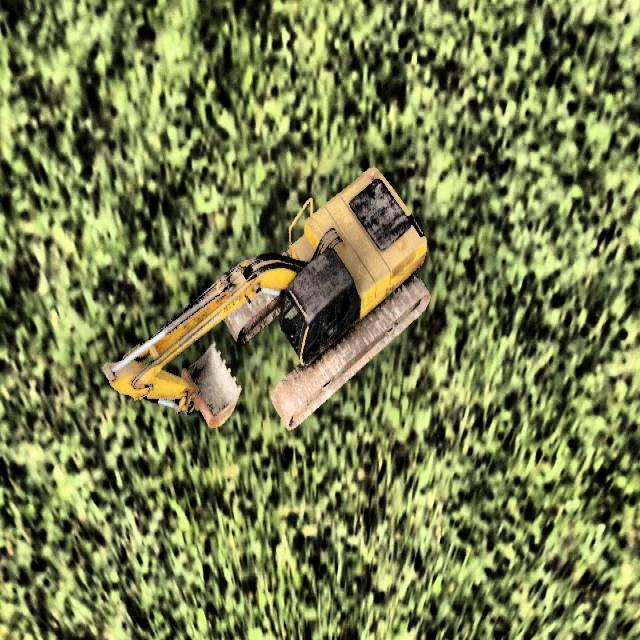excavator: (102, 166, 431, 430)
